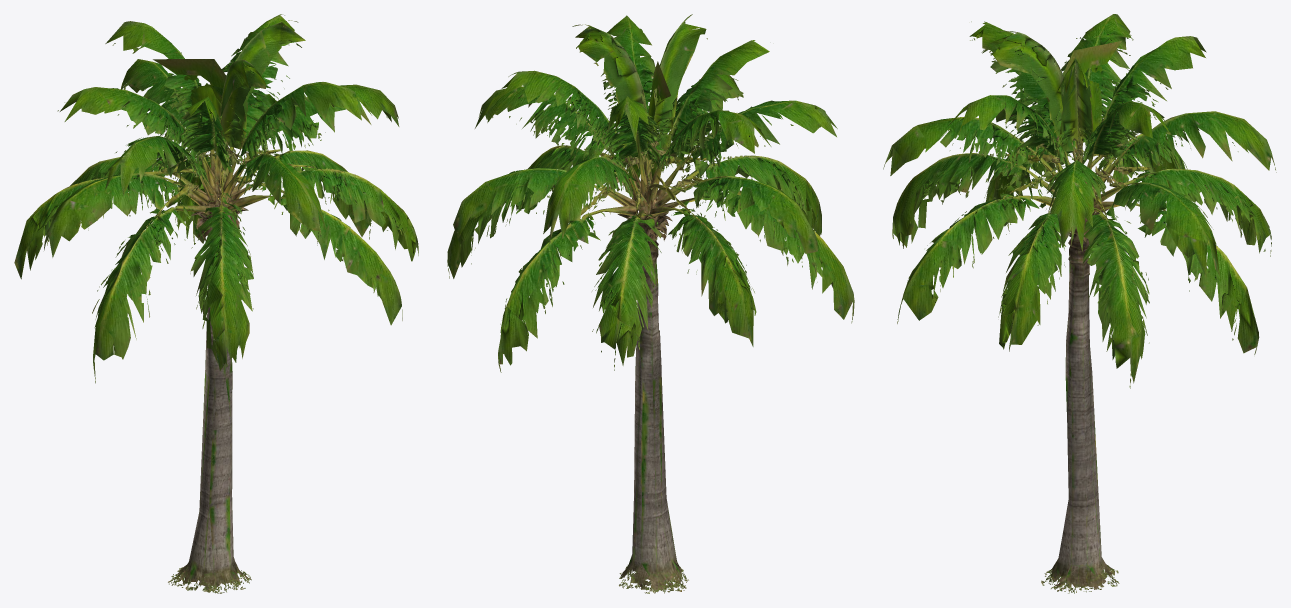
The model's file is coconut.glb.
3 views of the same model, side by side, from view 1: azimuth 30°, elevation 25°; view 2: azimuth 150°, elevation 25°; view 3: azimuth 270°, elevation 25° (orthographic). The views are drawn at different scales.
Parts seen in each view (by area): view 1: geometry_0; view 2: geometry_0; view 3: geometry_0.
Boxes of the visible parts, x1,y1,x2,y2 form: geometry_0: (14,14,418,593); geometry_0: (447,14,854,593); geometry_0: (883,14,1276,593).
Size of the model in its own units: 0.6764 by 0.9981 by 0.6486.
Materials: 1 (1 with a texture image).
